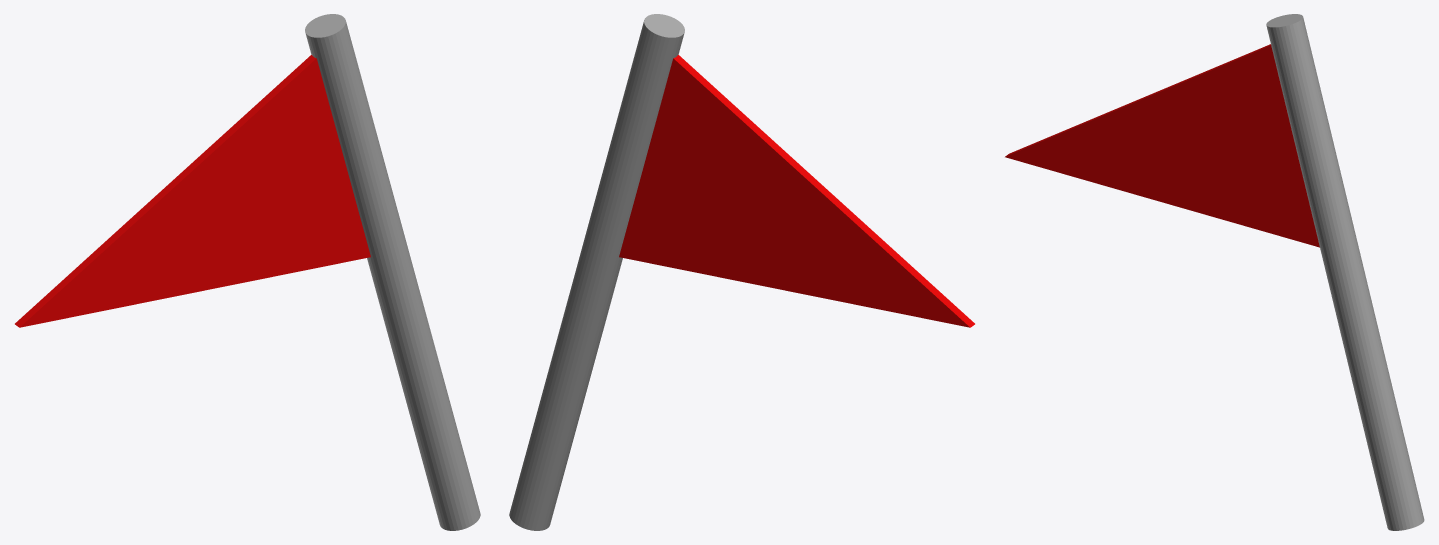
Rendered from claimed.fbx.
3 views of the same model, side by side, from view 1: azimuth 30°, elevation 25°; view 2: azimuth 150°, elevation 25°; view 3: azimuth 330°, elevation 25° (orthographic). The views are drawn at different scales.
Visible parts, largest first — view 1: Cylinder; view 2: Cylinder; view 3: Cylinder.
Part boxes in pixels (x1=…): Cylinder: x1=15, y1=14, x2=480, y2=530; Cylinder: x1=509, y1=14, x2=974, y2=530; Cylinder: x1=1005, y1=14, x2=1424, y2=530.
Bounding box in the file's own units: 261 × 290 × 20.
